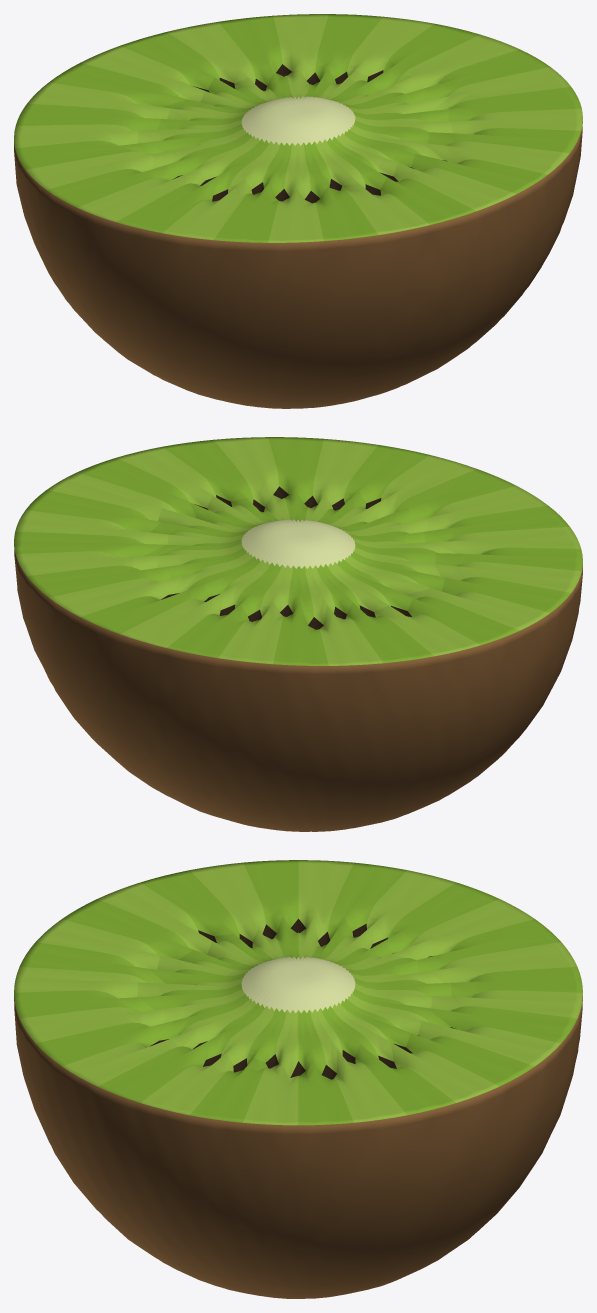
The picture shows the model from 3 angles, top to bottom: view 1: azimuth 30°, elevation 25°; view 2: azimuth 150°, elevation 25°; view 3: azimuth 270°, elevation 25°; orthographic projection. The views are drawn at different scales.
Parts seen in each view (by area): view 1: NEW334_KiwiHalf_LOD2; view 2: NEW334_KiwiHalf_LOD2; view 3: NEW334_KiwiHalf_LOD2.
Part boxes in pixels (x1,y1,x2,y2): NEW334_KiwiHalf_LOD2: (14,14,582,408); NEW334_KiwiHalf_LOD2: (14,437,582,831); NEW334_KiwiHalf_LOD2: (14,860,582,1298).
Bounding box in the file's own units: 0.0641 × 0.0333 × 0.058.
